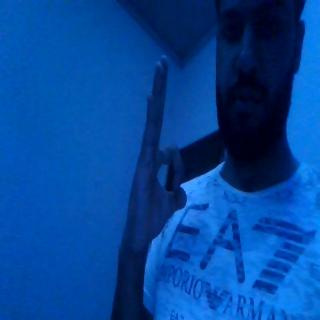Space: (114, 49, 189, 249)
